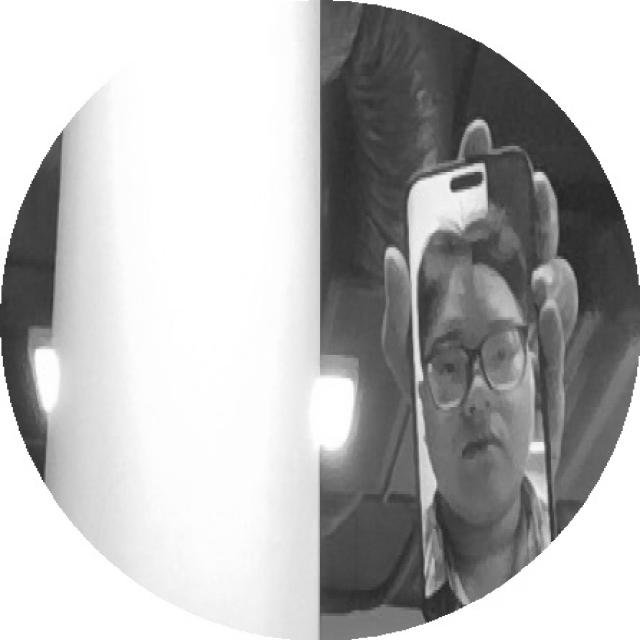fake: (366, 137, 575, 631), (391, 142, 569, 628)
